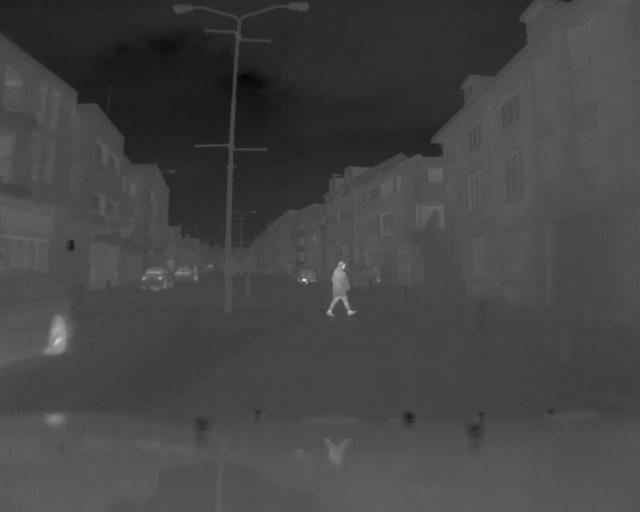car: (138, 265, 175, 293)
person: (326, 260, 356, 321)
